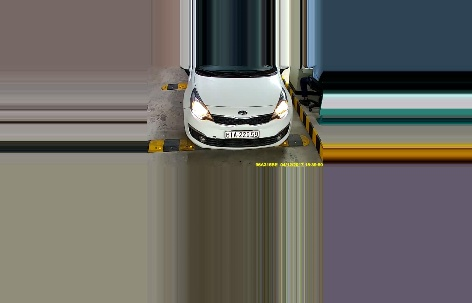plate: (224, 128, 260, 139)
